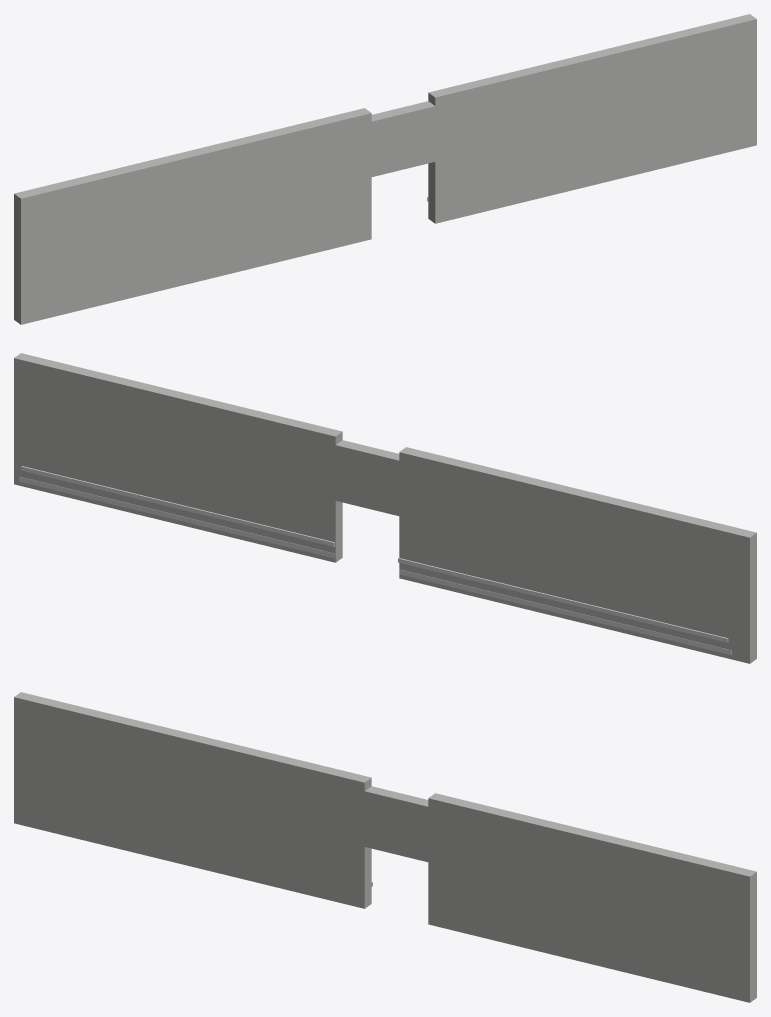
The model's file is Front_Wall.obj.
The picture shows the model from 3 angles, top to bottom: view 1: azimuth 30°, elevation 25°; view 2: azimuth 150°, elevation 25°; view 3: azimuth 330°, elevation 25°; orthographic projection.
Parts seen in each view (by area): view 1: Part8, Part7, Part9; view 2: Part8, Part7, Part9, Part5, Part3, Part6, Part4; view 3: Part8, Part7, Part9.
Boxes of the visible parts, <box> form: Part8: <box>14,108,371,324</box>; Part7: <box>428,14,756,223</box>; Part9: <box>232,67,597,200</box>; Part8: <box>399,447,756,663</box>; Part7: <box>14,353,342,562</box>; Part9: <box>173,406,399,515</box>; Part5: <box>399,569,731,655</box>; Part3: <box>19,476,335,558</box>; Part6: <box>398,558,728,642</box>; Part4: <box>21,466,334,546</box>; Part8: <box>14,692,371,908</box>; Part7: <box>428,793,756,1002</box>; Part9: <box>225,758,576,891</box>.
Size of the model in its own units: 149 by 24.43 by 2.87.
Materials: 3 (2 with a texture image).
